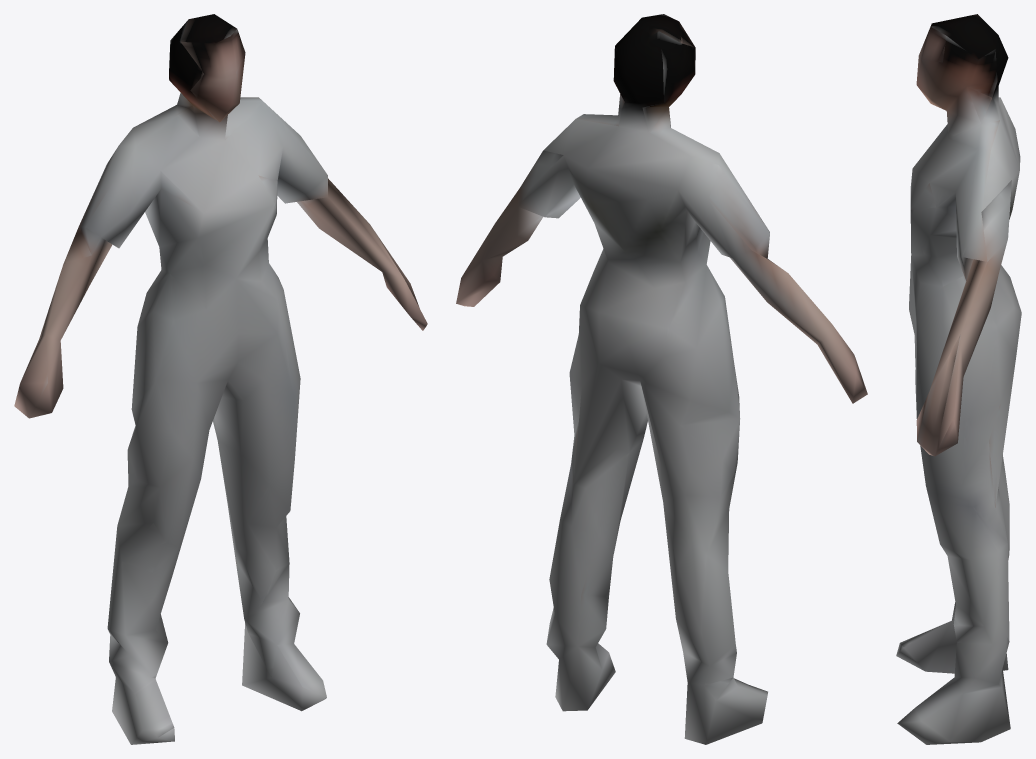
File: 医疗兵500面.fbx
3 renders of one model, left to right at view 1: azimuth 30°, elevation 25°; view 2: azimuth 150°, elevation 25°; view 3: azimuth 270°, elevation 25°, orthographic.
Parts seen in each view (by area): view 1: material.obj; view 2: material.obj; view 3: material.obj.
Part boxes in pixels (<box>): material.obj: <box>14,14,427,744</box>; material.obj: <box>456,14,867,744</box>; material.obj: <box>896,14,1021,744</box>.
Bounding box in the file's own units: 69.17 × 114 × 19.09.
1 material, 1 textured.
